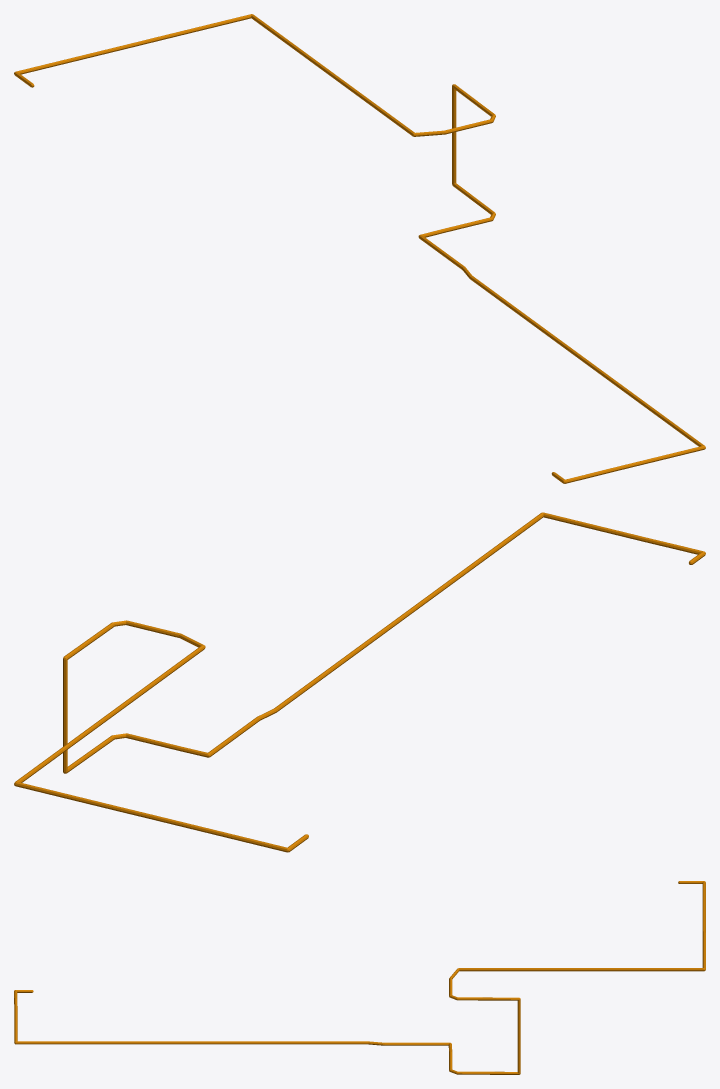
3 views of the same model, one above another, from view 1: azimuth 30°, elevation 25°; view 2: azimuth 150°, elevation 25°; view 3: azimuth 270°, elevation 25° (orthographic). The views are drawn at different scales.
Size of the model in its own units: 1704 by 520 by 4222.
